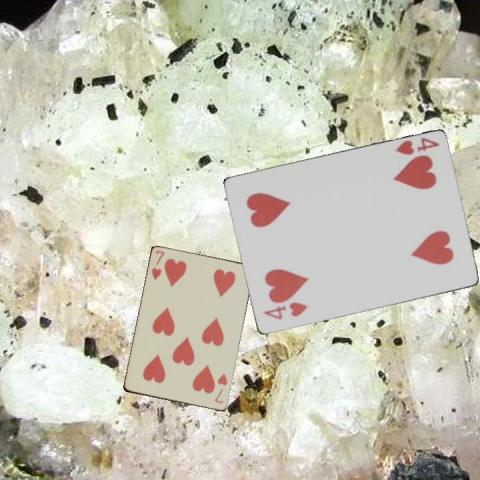4h: (392, 135, 440, 157), (260, 300, 308, 321)
7h: (211, 370, 229, 404), (149, 248, 166, 282)
